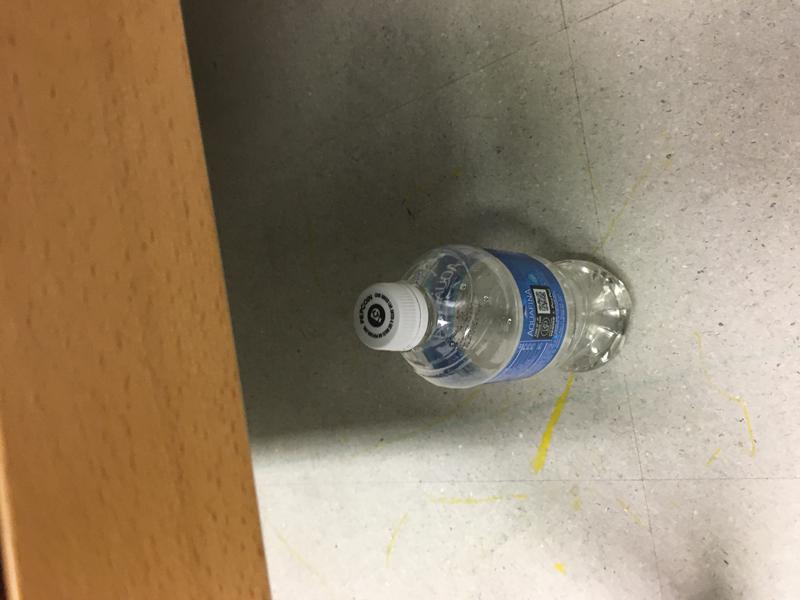bottle: (352, 240, 637, 390)
